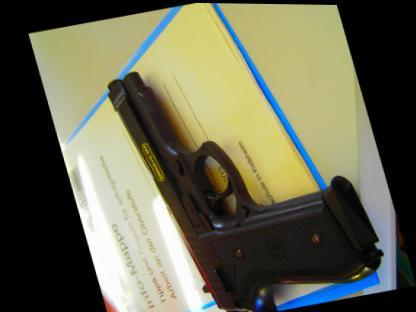pistol: (93, 32, 391, 311)
